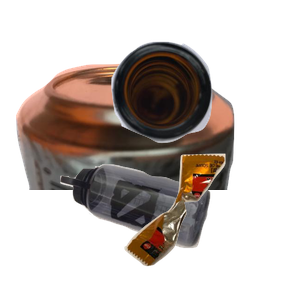glass: (109, 39, 300, 175)
metal: (13, 61, 240, 241)
plastic: (58, 162, 261, 300)
trash: (122, 151, 300, 300)
